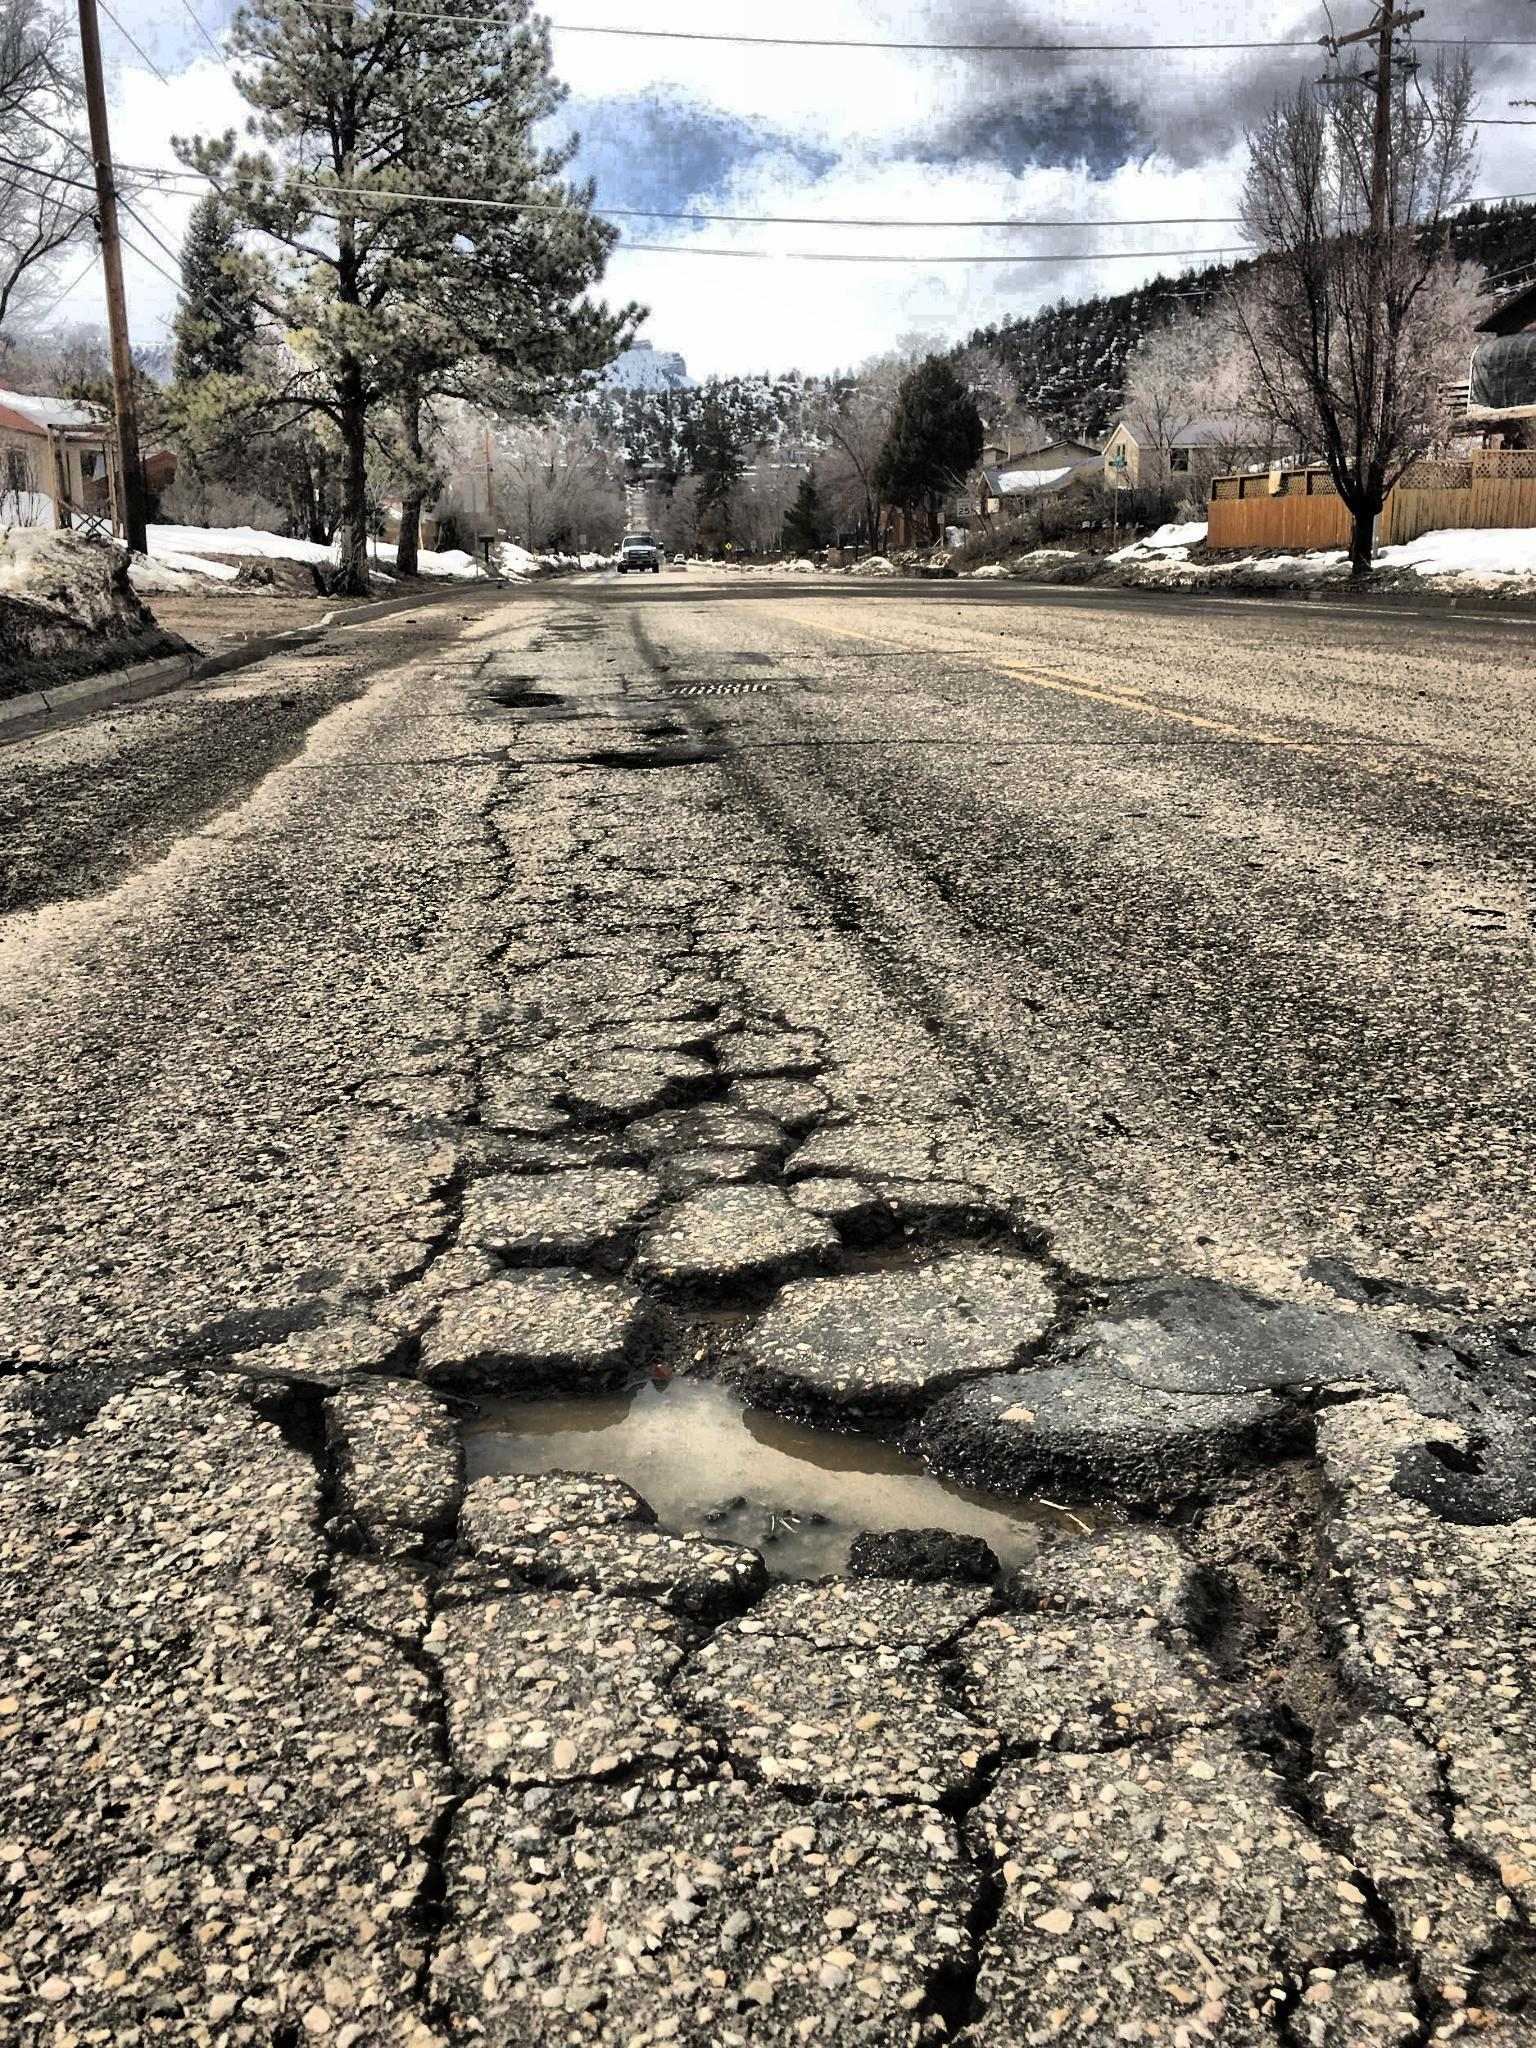pothole: (287, 1121, 1423, 1756), (557, 740, 715, 780), (489, 681, 557, 724)
